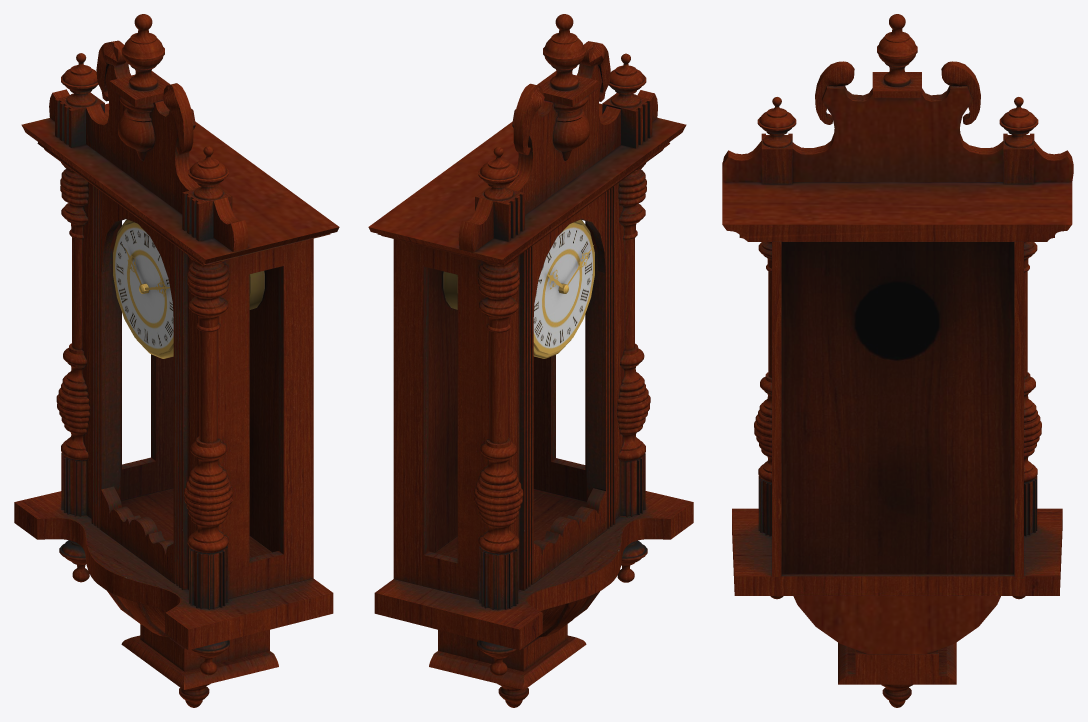
Rendered from antique_clock.glb.
3 views of the same model, side by side, from view 1: azimuth 30°, elevation 25°; view 2: azimuth 150°, elevation 25°; view 3: azimuth 270°, elevation 25° (orthographic). The views are drawn at different scales.
Visible parts, largest first — view 1: Object_3; view 2: Object_3; view 3: Object_3.
Boxes of the visible parts, x1,y1,x2,y2 form: Object_3: (14, 14, 339, 707); Object_3: (368, 14, 693, 707); Object_3: (722, 14, 1073, 707).
Size of the model in its own units: 288 by 1321 by 629.
1 material, 1 textured.
